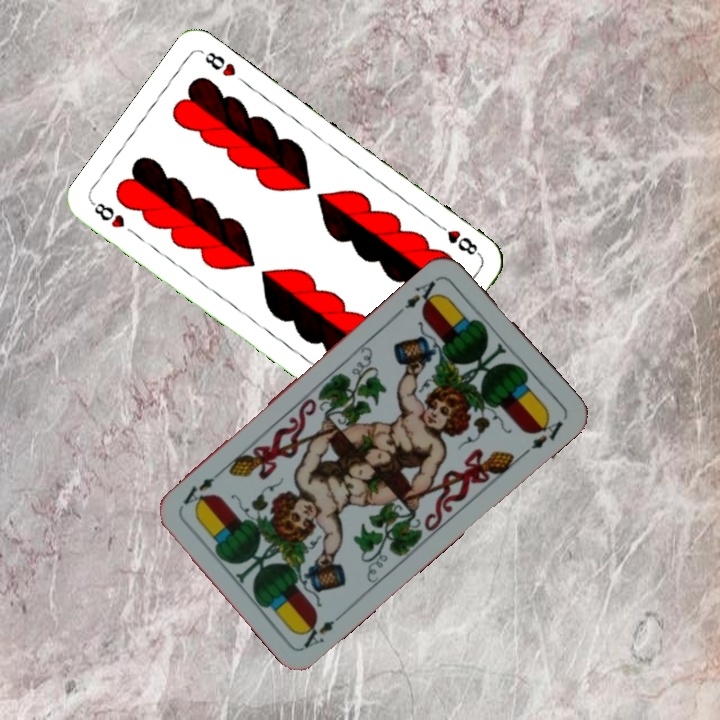EA: (295, 607, 349, 651), (393, 276, 442, 317)
H8: (432, 219, 483, 258), (88, 198, 128, 231)
